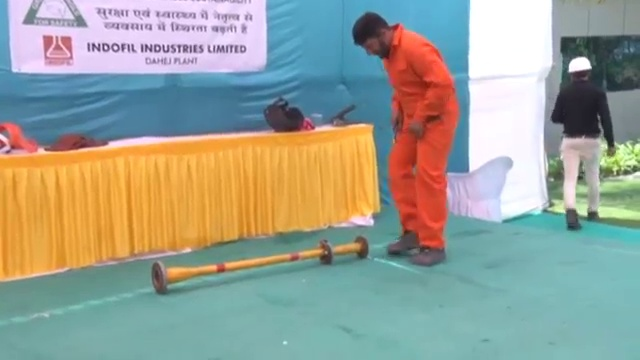helmet: (566, 56, 593, 76)
helmet_off: (352, 12, 393, 60)
helmet_on: (564, 55, 595, 88)
person: (352, 12, 461, 270), (549, 56, 617, 230)
